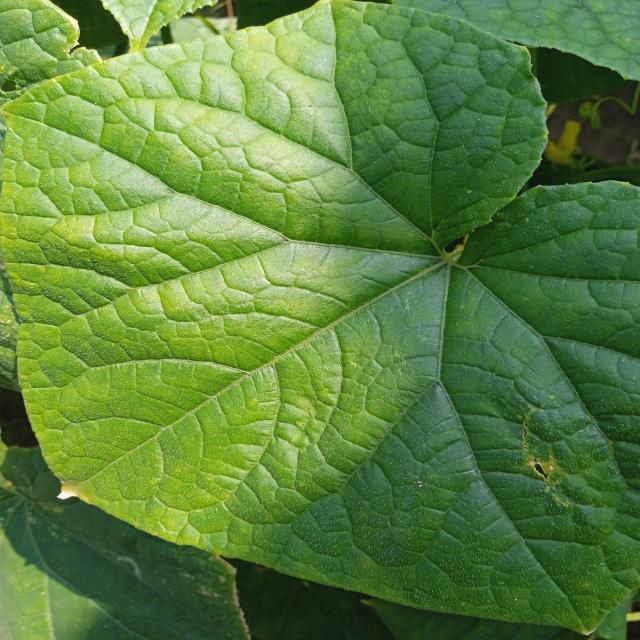cucumber_healthy: (2, 0, 640, 638), (3, 432, 258, 640)
